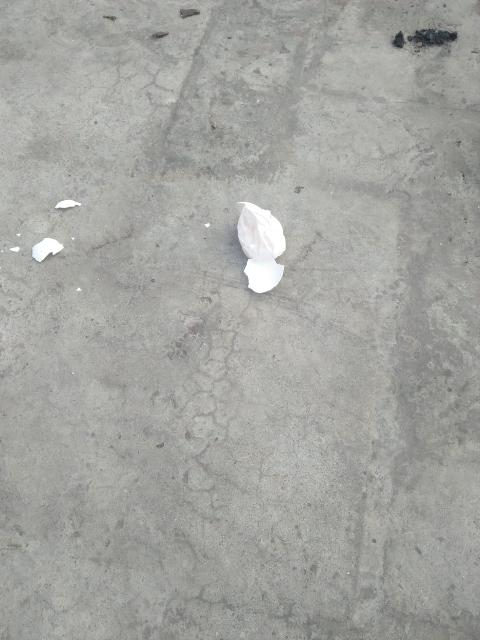Roto: (235, 201, 286, 294), (31, 237, 64, 263), (54, 198, 81, 209)
